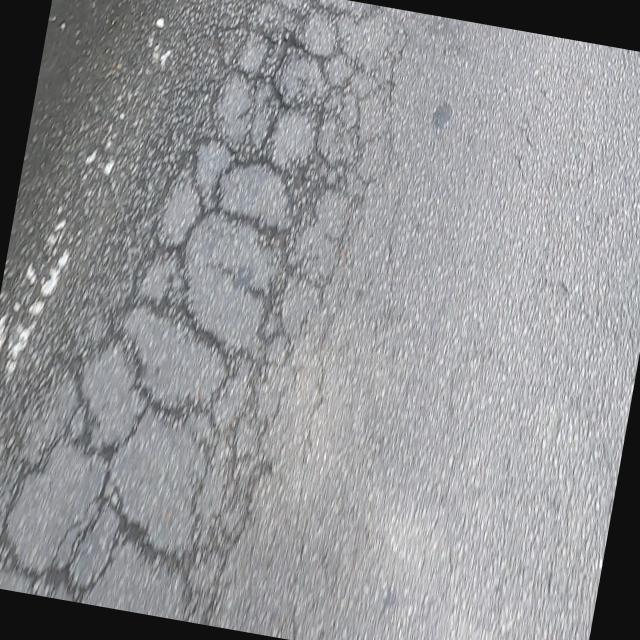Retak-Buaya: (0, 0, 412, 625)
